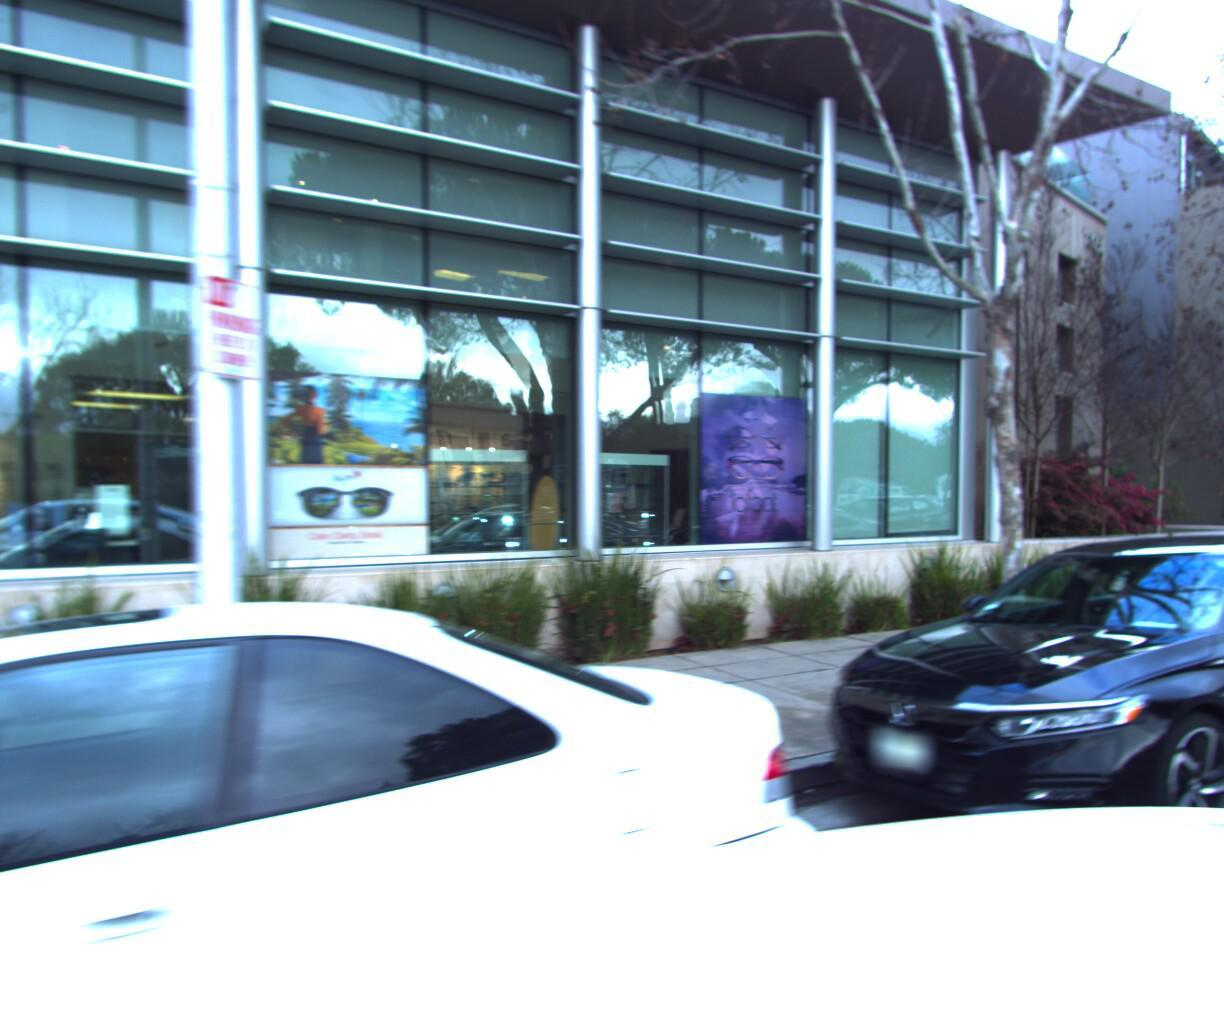car: (0, 547, 864, 1024), (779, 515, 1224, 956)
